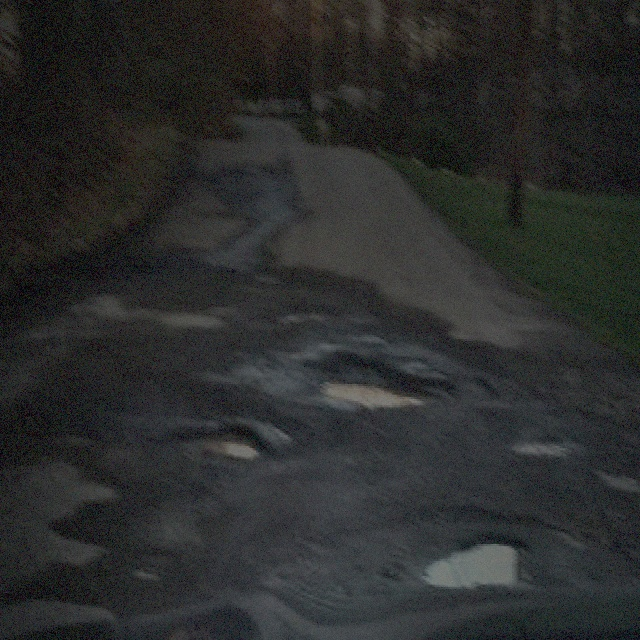pothole: (302, 348, 448, 410), (414, 529, 532, 593), (130, 604, 262, 638), (172, 420, 270, 465), (510, 431, 573, 454)
